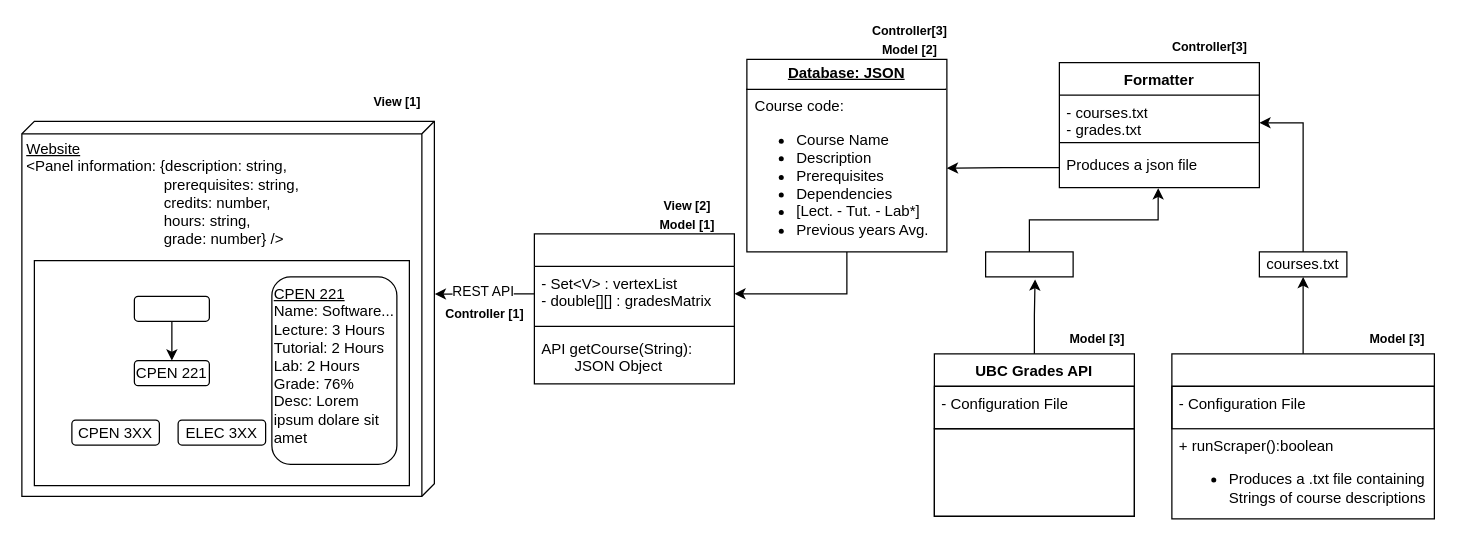
Some shapes in this 1469 by 544 pixel diagram are drawn without their labels. Here are the shapes that lost their labels. From the top down, the box of each, then its label:
(984, 251, 1073, 277): grades.txt
(133, 295, 209, 321): APSC 160
(533, 232, 734, 384): Graph
(1171, 352, 1434, 519): Web Scraper
(933, 428, 1134, 516): + getGrades():boolean Produces a .txt file containing grades
